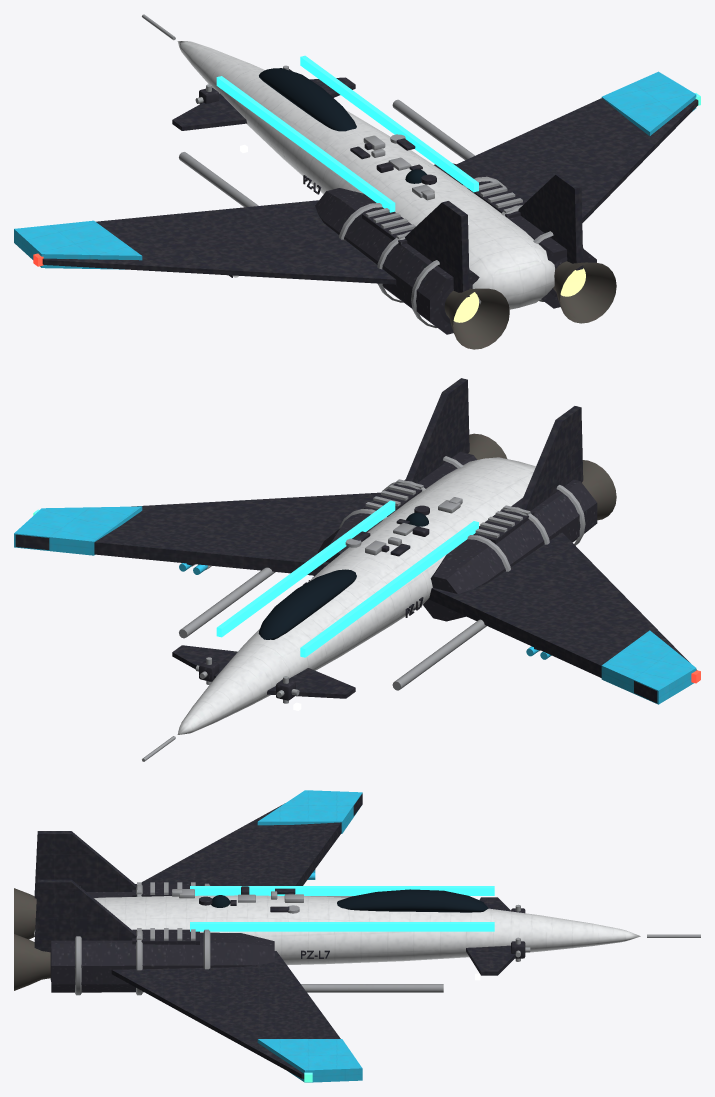
The model's file is game-lance.glb.
3 renders of one model, top to bottom at view 1: azimuth 30°, elevation 25°; view 2: azimuth 150°, elevation 25°; view 3: azimuth 270°, elevation 25°, orthographic. The views are drawn at different scales.
Parts seen in each view (by area): view 1: lance; view 2: lance; view 3: lance.
Part boxes in pixels (bbox=[...]): lance: bbox=[14, 14, 700, 349]; lance: bbox=[14, 378, 700, 761]; lance: bbox=[14, 790, 700, 1082].
Size of the model in its own units: 19.85 by 3.68 by 20.3.
11 materials, 2 textured.
